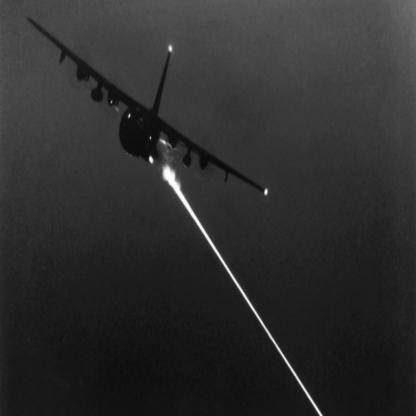C130: (24, 16, 270, 198)
